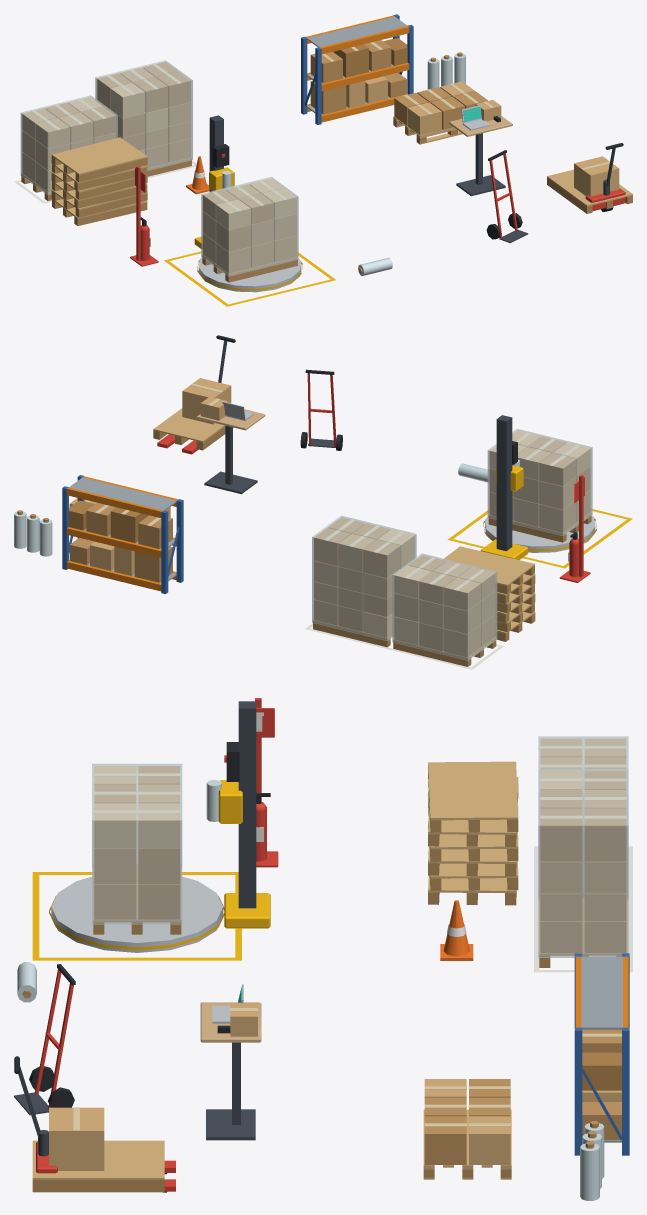
Rendered from einrichtung_wareneingang.glb.
The picture shows the model from 3 angles, top to bottom: view 1: azimuth 30°, elevation 25°; view 2: azimuth 150°, elevation 25°; view 3: azimuth 270°, elevation 25°; orthographic projection. The views are drawn at different scales.
Visible parts, largest first — view 1: einrichtung_wareneingang; view 2: einrichtung_wareneingang; view 3: einrichtung_wareneingang.
Part boxes in pixels (x1,y1,x2,y2): einrichtung_wareneingang: [14, 14, 632, 306]; einrichtung_wareneingang: [14, 335, 632, 669]; einrichtung_wareneingang: [14, 698, 632, 1200].
Size of the model in its own units: 7.61 by 2.12 by 5.62.
